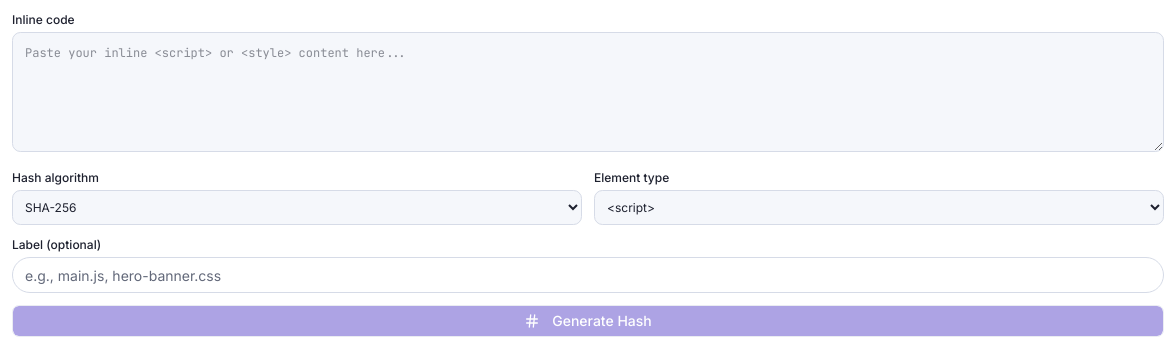
Test case: <HashGenerator /> › enables the generate button when code is entered
Type "console.log(\"test\");" into the text box with test id "hash-code-input" at x=588, y=92, box [12, 32, 1164, 152]
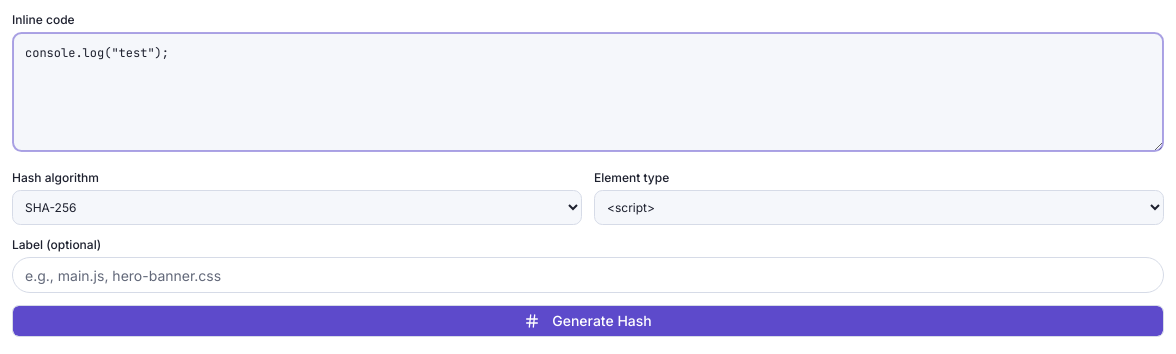
Now the button with test id "hash-generate-button" is enabled, box [12, 305, 1164, 337]
